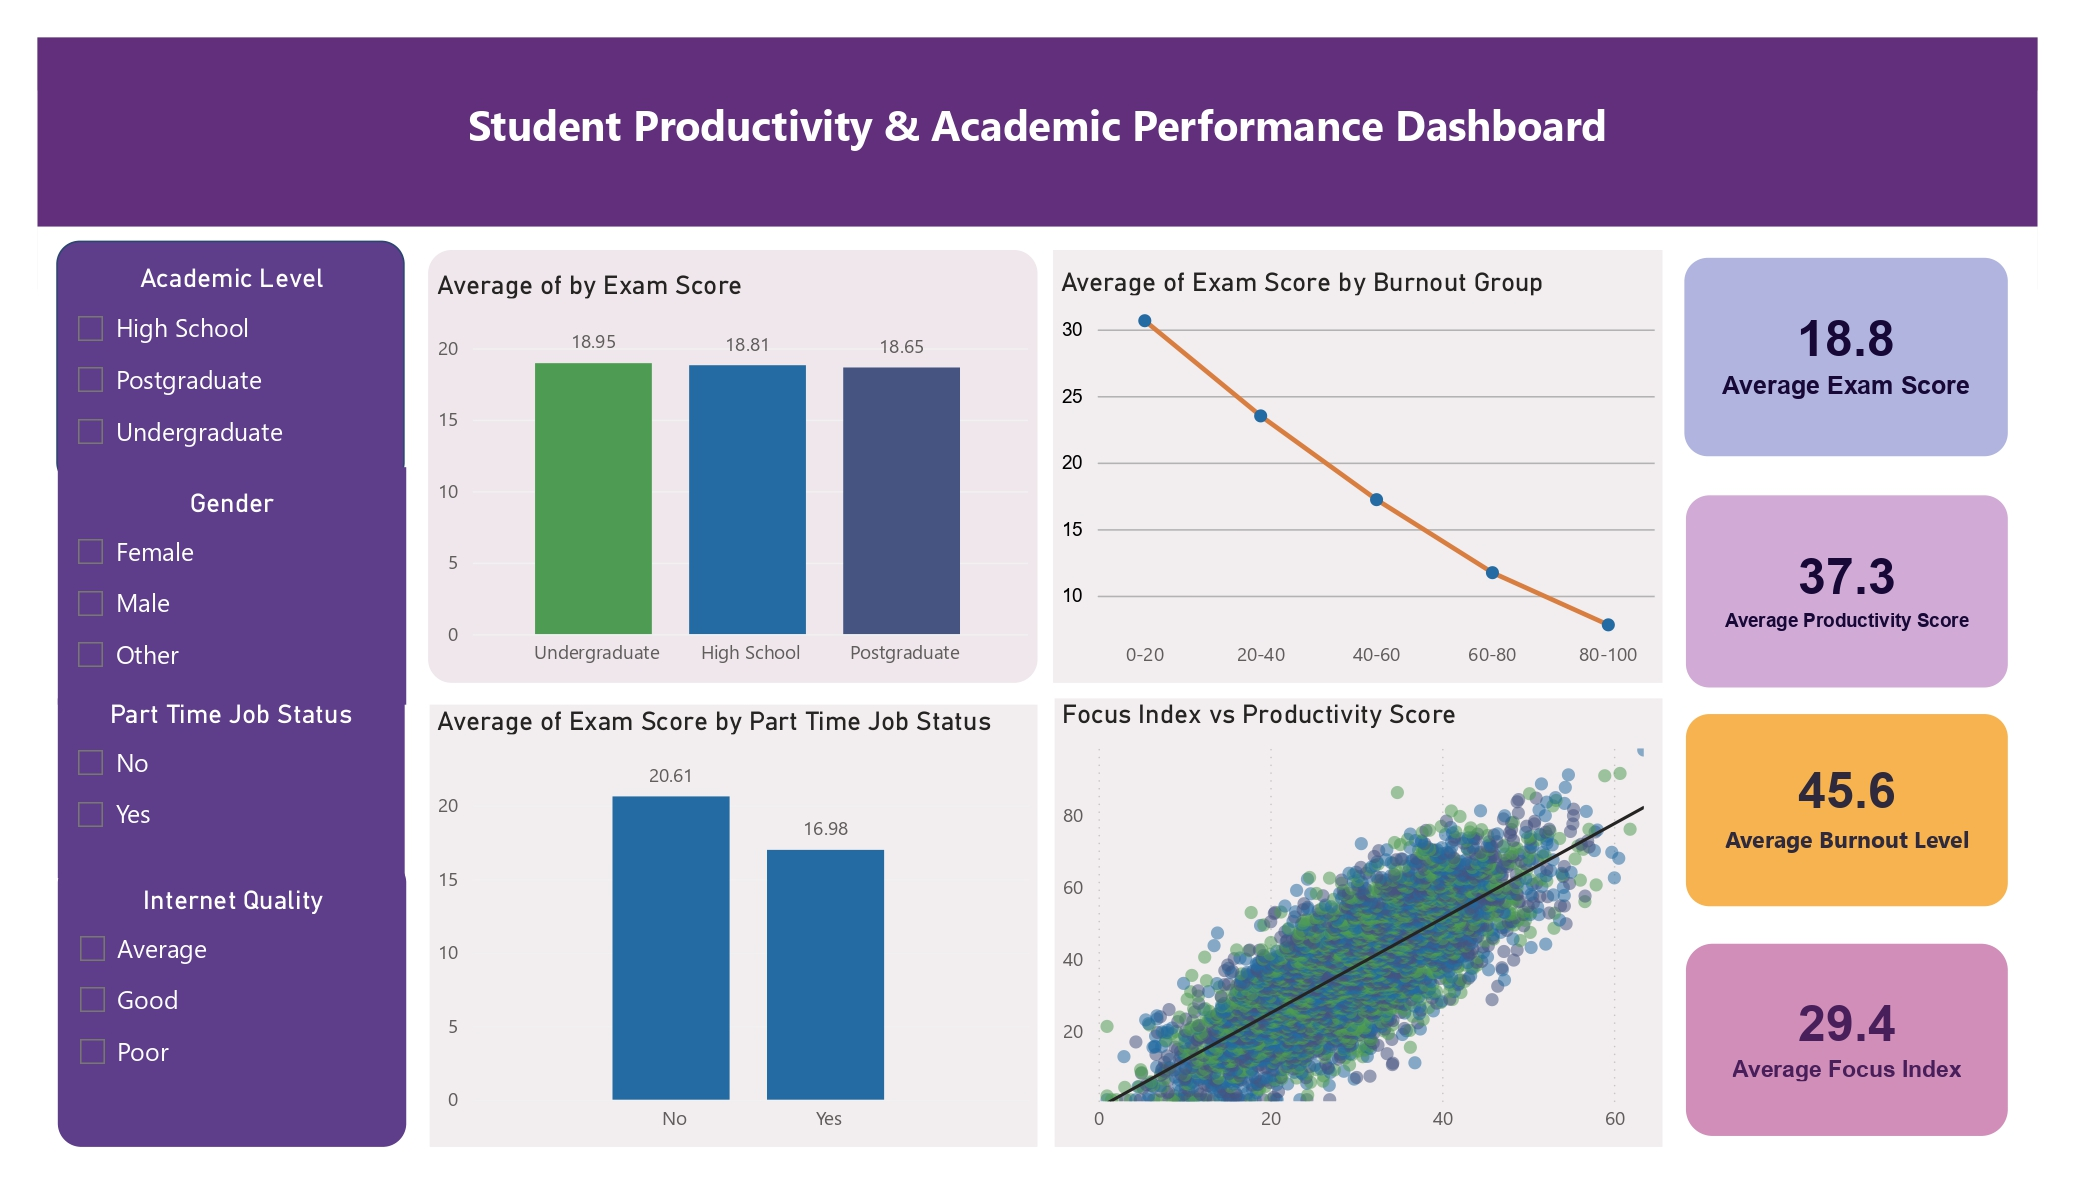

The dashboard page shown, as its layout file describes it:
{"tool":"powerbi","page":{"name":"Page 1","canvas":[1280,720],"ordinal":0},"visuals":[{"type":"columnChart","title":"Average of by Exam Score","fields":{"Category":["student_full_data.academic_level"],"Y":["Avg(student_full_data.exam_score)"]},"box":[250,135.7,390,277.1],"z":0},{"type":"slicer","title":"Academic Level","fields":{"Values":["student_full_data.academic_level"]},"box":[12.3,130.4,222.3,156.4],"z":1000},{"type":"textbox","box":[0,0,1280,121.4],"z":2000},{"type":"slicer","title":"Gender","fields":{"Values":["student_full_data.gender"]},"box":[13.5,275.1,222.6,151.6],"z":3000},{"type":"slicer","title":"Part Time Job Status","fields":{"Values":["student_full_data.Part Time Job Status"]},"box":[13.1,423.1,222.3,115.4],"z":4000},{"type":"slicer","title":"Internet Quality","fields":{"Values":["student_full_data.internet_quality"]},"box":[13.5,525.8,222.6,184.6],"z":5000},{"type":"cardVisual","fields":{"Data":["Avg(student_full_data.exam_score)"]},"box":[1048.2,135.5,219.1,139.1],"z":6000},{"type":"cardVisual","fields":{"Data":["Avg(student_full_data.productivity_score)"]},"box":[1048.6,287.1,218.6,135.7],"z":7000},{"type":"cardVisual","fields":{"Data":["Avg(student_full_data.burnout_level)"]},"box":[1048.6,427.1,218.6,135.7],"z":8000},{"type":"cardVisual","fields":{"Data":["Avg(student_full_data.focus_index)"]},"box":[1048.6,574.3,218.6,135.7],"z":9000},{"type":"columnChart","title":"Average of Exam Score by Part Time Job Status","fields":{"Y":["Avg(student_full_data.exam_score)"],"Category":["student_full_data.Part Time Job Status"]},"box":[251,427,389,283],"z":10000},{"type":"lineChart","title":"Average of Exam Score by Burnout Group","fields":{"Y":["Avg(student_full_data.exam_score)"],"Category":["student_full_data.Burnout Group"]},"box":[650,136,390,277],"z":11000},{"type":"scatterChart","title":"Focus Index vs Productivity Score","fields":{"Y":["student_full_data.productivity_score"],"X":["student_full_data.focus_index"]},"box":[651,423,389,287],"z":12000}]}

Visuals, with their boxes on the page's 1280x720 design canvas (x1, y1, x2, y2). These are canvas units, not pixel positions in the 2075x1200 screenshot, which may show the page scaled, cropped or inside an application window:
"Average of by Exam Score" columnChart: 250/136/640/413
"Academic Level" slicer: 12/130/235/287
textbox: 0/0/1280/121
"Gender" slicer: 14/275/236/427
"Part Time Job Status" slicer: 13/423/235/538
"Internet Quality" slicer: 14/526/236/710
cardVisual - Avg(student_full_data.exam_score): 1048/136/1267/275
cardVisual - Avg(student_full_data.productivity_score): 1049/287/1267/423
cardVisual - Avg(student_full_data.burnout_level): 1049/427/1267/563
cardVisual - Avg(student_full_data.focus_index): 1049/574/1267/710
"Average of Exam Score by Part Time Job Status" columnChart: 251/427/640/710
"Average of Exam Score by Burnout Group" lineChart: 650/136/1040/413
"Focus Index vs Productivity Score" scatterChart: 651/423/1040/710
